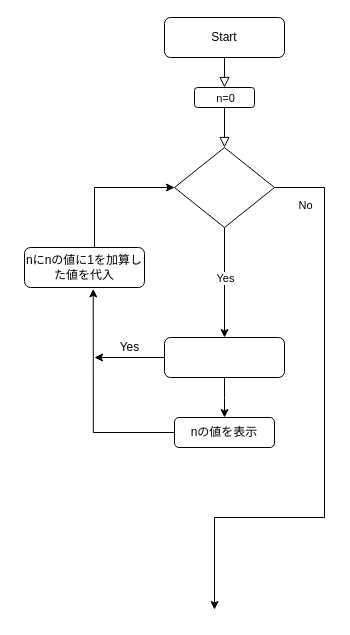
The diagram is 350 pixels wide and 635 high, and some of its shapes have lost their labels. The shapes that lost their labels are listed below. From the top down, each one's centre as x and y in pixels, then its label:
At (224,187): "n=20でない".
At (224,357): "n/2が0か、つまり偶数か".
